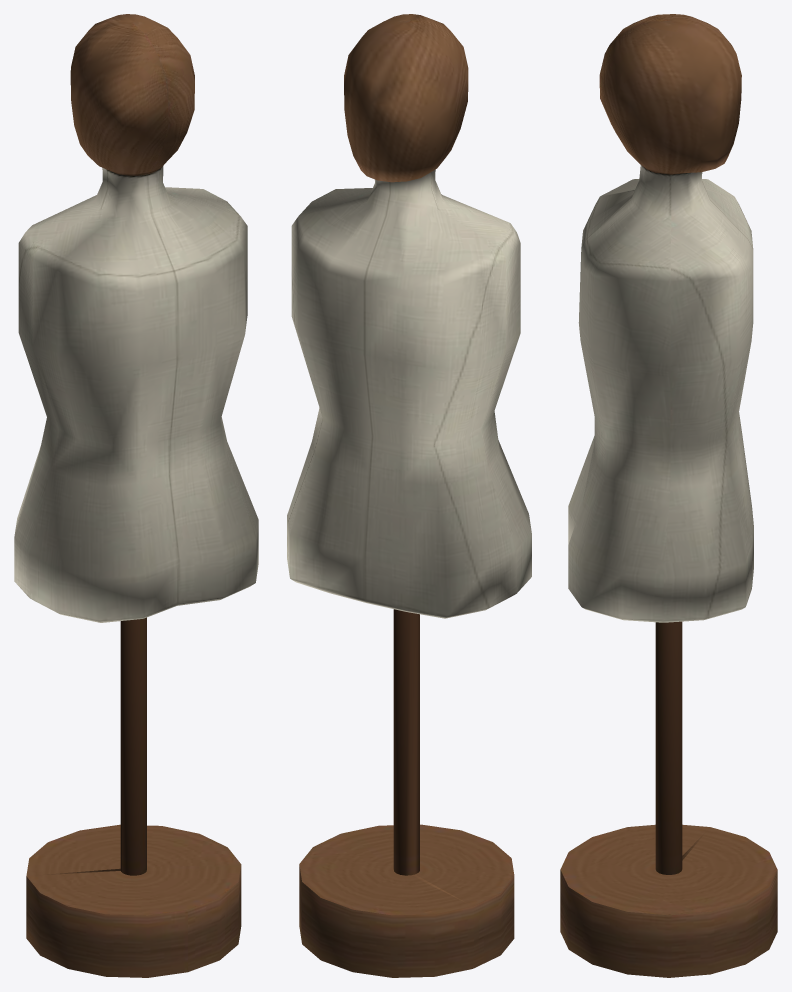
The model's file is tiem-ma-no-canh.glb.
3 views of the same model, side by side, from view 1: azimuth 30°, elevation 25°; view 2: azimuth 150°, elevation 25°; view 3: azimuth 270°, elevation 25° (orthographic).
Visible parts, largest first — view 1: tiem-ma-no-canh; view 2: tiem-ma-no-canh; view 3: tiem-ma-no-canh.
Boxes of the visible parts, x1,y1,x2,y2 form: tiem-ma-no-canh: (14,14,258,977); tiem-ma-no-canh: (287,14,531,977); tiem-ma-no-canh: (560,14,777,977).
Size of the model in its own units: 1.36 by 5.52 by 1.19.
Materials: 1 (1 with a texture image).
